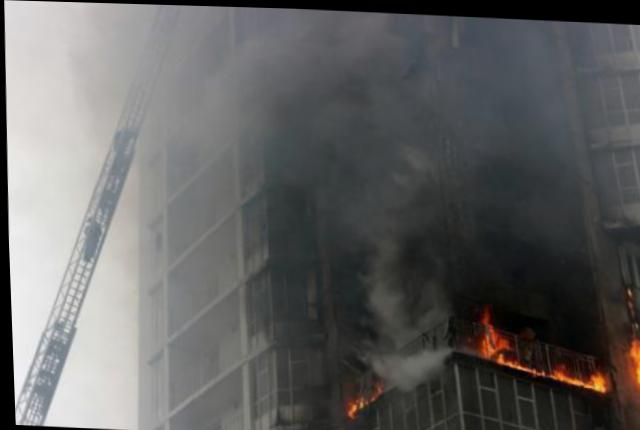fire: (479, 303, 510, 352), (629, 336, 639, 392), (552, 361, 586, 377), (587, 365, 611, 385), (345, 392, 362, 413), (497, 352, 518, 363), (517, 361, 537, 368)
